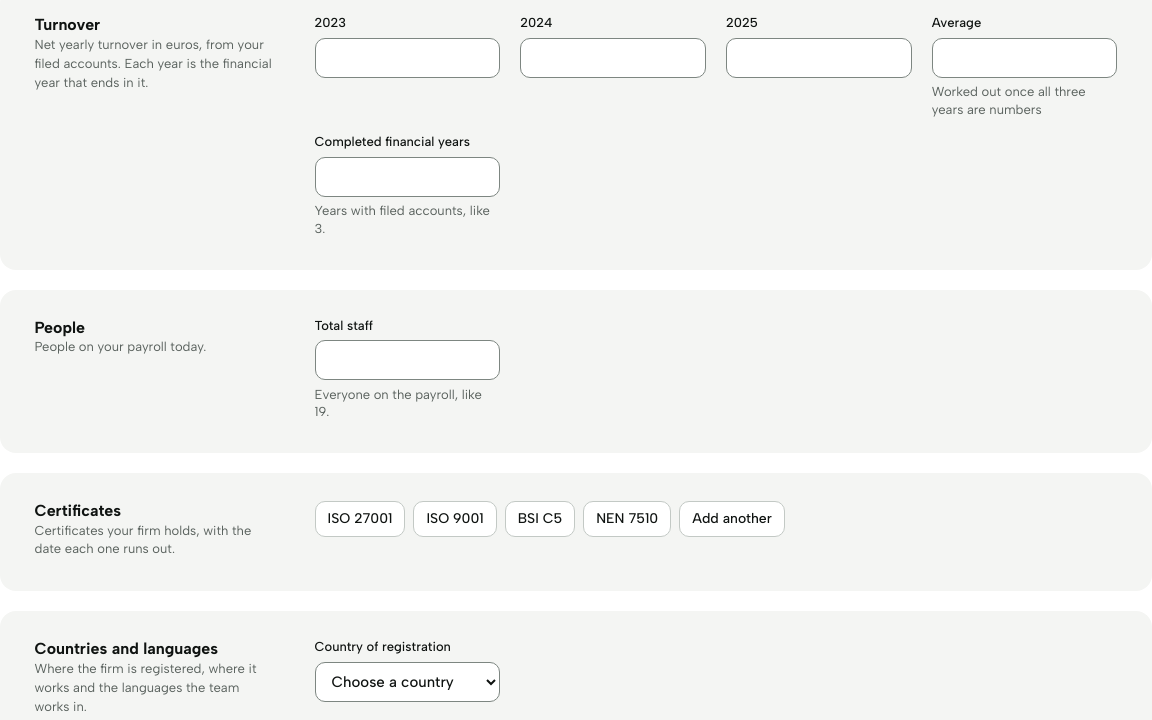
Test: ProfileForm, the save status and the storage line › says so when the browser refuses to store the profile
(page scrolled)
Type "3" into the field labelled "Total staff" at (407, 360), box [314,340,500,380]
(page scrolled)
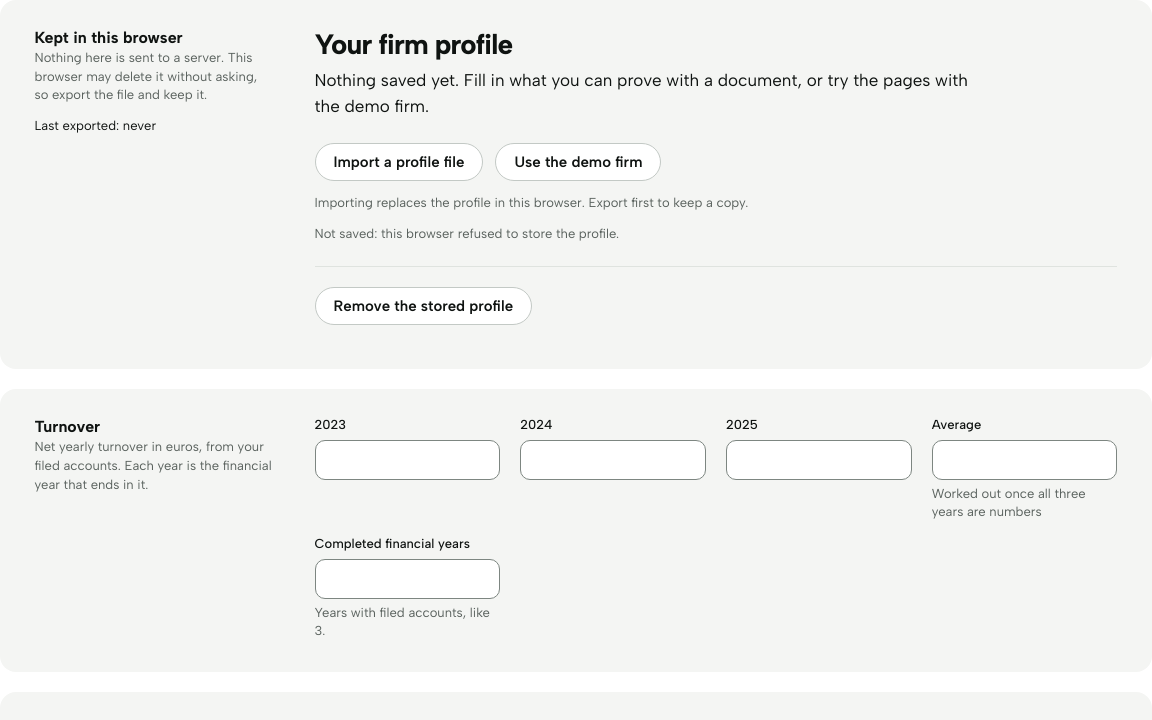
Expected: the message reads "Not saved: this browser refused to store the profile.", [314,226,619,241]
